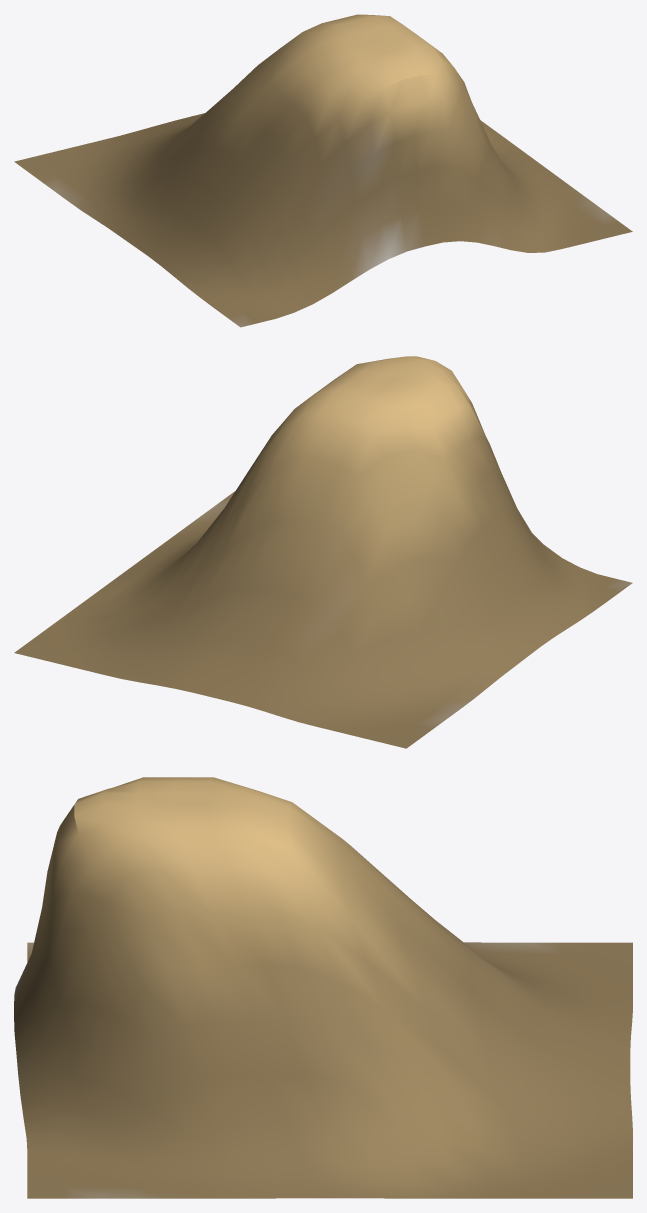
The model's file is Praia.fbx.
The picture shows the model from 3 angles, top to bottom: view 1: azimuth 30°, elevation 25°; view 2: azimuth 150°, elevation 25°; view 3: azimuth 270°, elevation 25°; orthographic projection. The views are drawn at different scales.
Visible parts, largest first — view 1: Plane; view 2: Plane; view 3: Plane.
Boxes of the visible parts, left/top/right/bottom form: Plane: left=14, top=14, right=632, bottom=327; Plane: left=14, top=356, right=632, bottom=748; Plane: left=14, top=777, right=632, bottom=1198.
Bounding box in the file's own units: 385 × 187 × 393.
